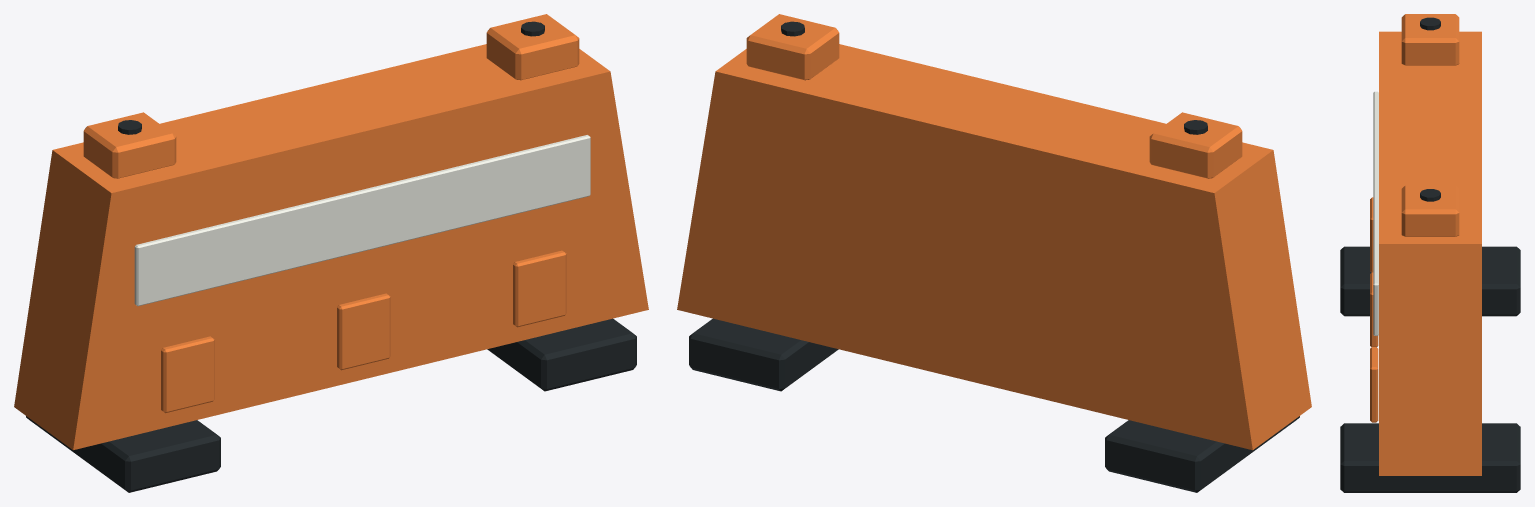
The model's file is Barrier_Plastic.glb.
3 views of the same model, side by side, from view 1: azimuth 30°, elevation 25°; view 2: azimuth 150°, elevation 25°; view 3: azimuth 270°, elevation 25° (orthographic). The views are drawn at different scales.
Visible parts, largest first — view 1: Barrier_Plastic; view 2: Barrier_Plastic; view 3: Barrier_Plastic.
Boxes of the visible parts, x1,y1,x2,y2 form: Barrier_Plastic: (14, 14, 648, 492); Barrier_Plastic: (677, 14, 1311, 492); Barrier_Plastic: (1340, 14, 1520, 492).
Size of the model in its own units: 1.8 by 0.954 by 0.56.
